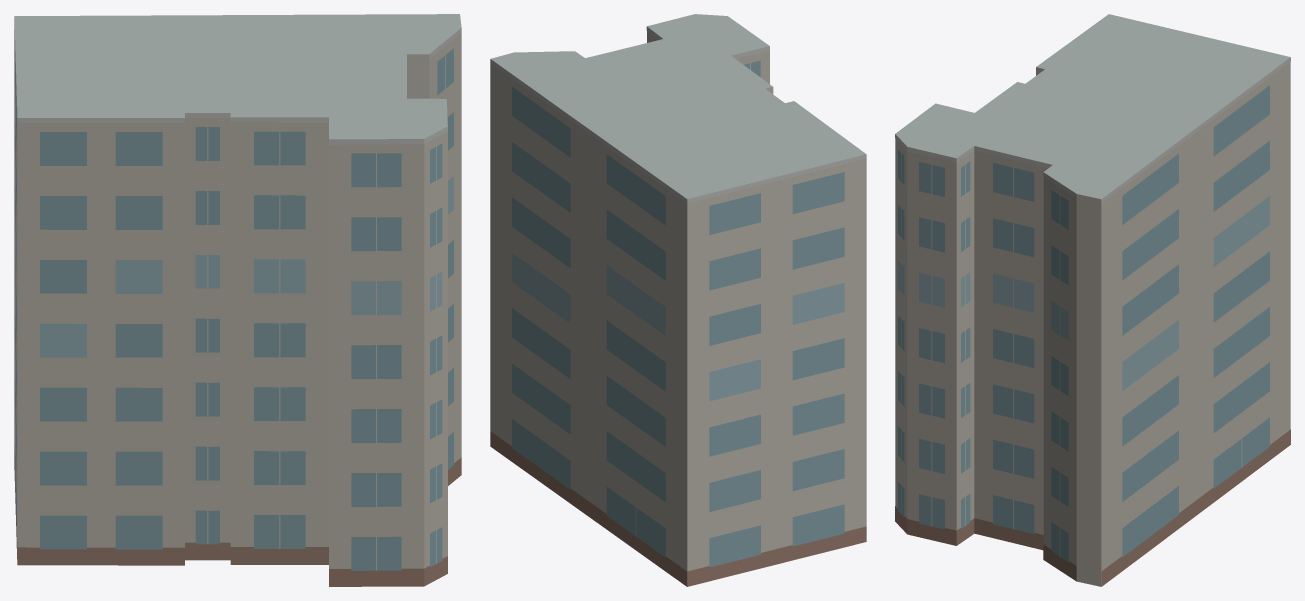
File: survey-upis-32835634.glb
The picture shows the model from 3 angles, left to right: view 1: azimuth 30°, elevation 25°; view 2: azimuth 150°, elevation 25°; view 3: azimuth 270°, elevation 25°; orthographic projection. The views are drawn at different scales.
Parts seen in each view (by area): view 1: survey-upis-32835634.tmp; view 2: survey-upis-32835634.tmp; view 3: survey-upis-32835634.tmp.
Part boxes in pixels (x1=…): survey-upis-32835634.tmp: x1=14, y1=14, x2=461, y2=586; survey-upis-32835634.tmp: x1=490, y1=14, x2=866, y2=586; survey-upis-32835634.tmp: x1=895, y1=14, x2=1290, y2=586.
Bounding box in the file's own units: 21.89 × 21.35 × 19.76.
